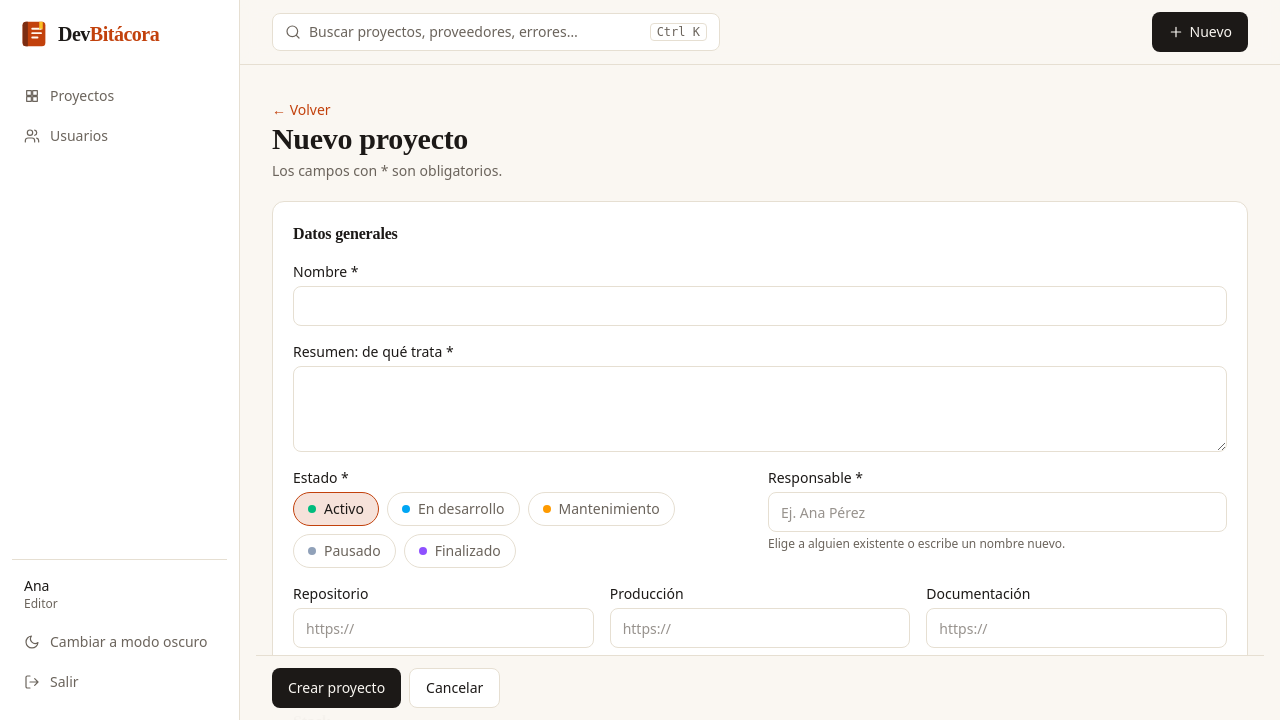
Test case: formulario de proyecto › exige proveedor cuando una fila de servicio tiene datos
Step 1. Type "Nuevo" into the field labelled "Nombre *" → {"x": 760, "y": 306}, box top-left (293, 286), bottom-right (1227, 326)
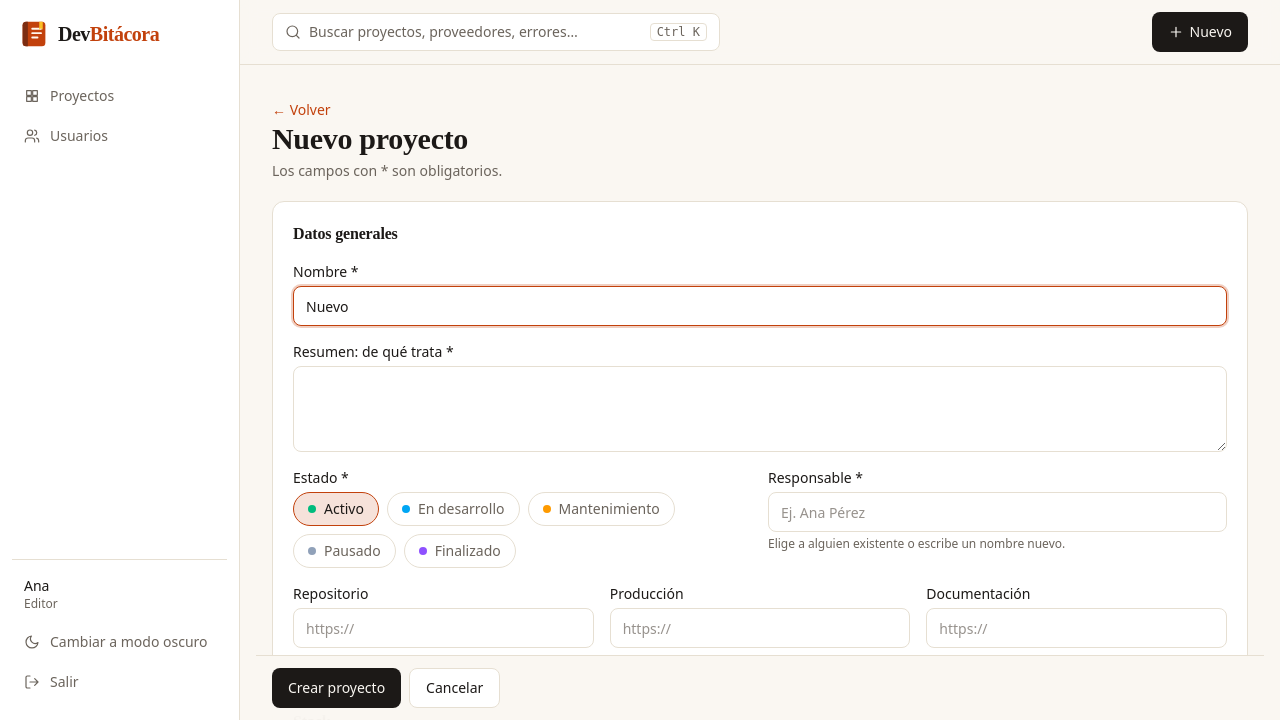
Step 2. Type "Un resumen" into the text box labelled "Resumen: de qué trata *" → {"x": 760, "y": 409}, box top-left (293, 366), bottom-right (1227, 452)
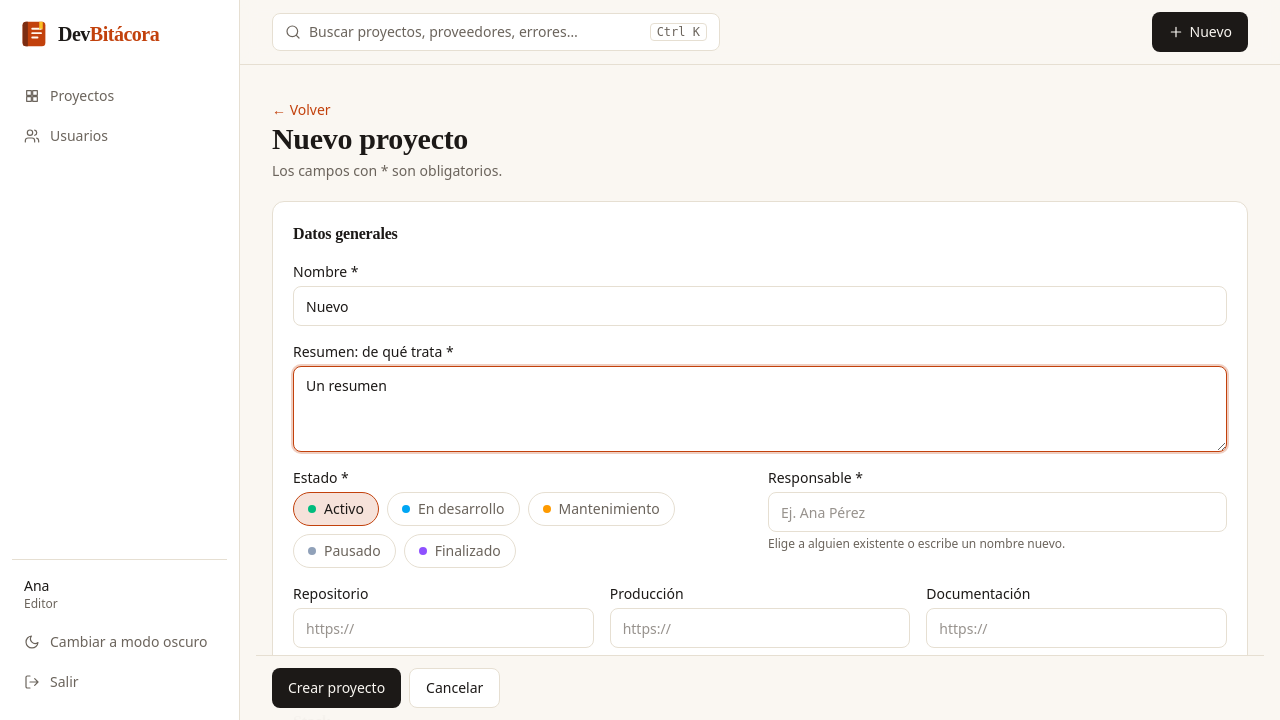
Step 3. Type "Ana" into the dropdown labelled "Responsable *" → {"x": 998, "y": 512}, box top-left (768, 492), bottom-right (1227, 532)
(page scrolled)
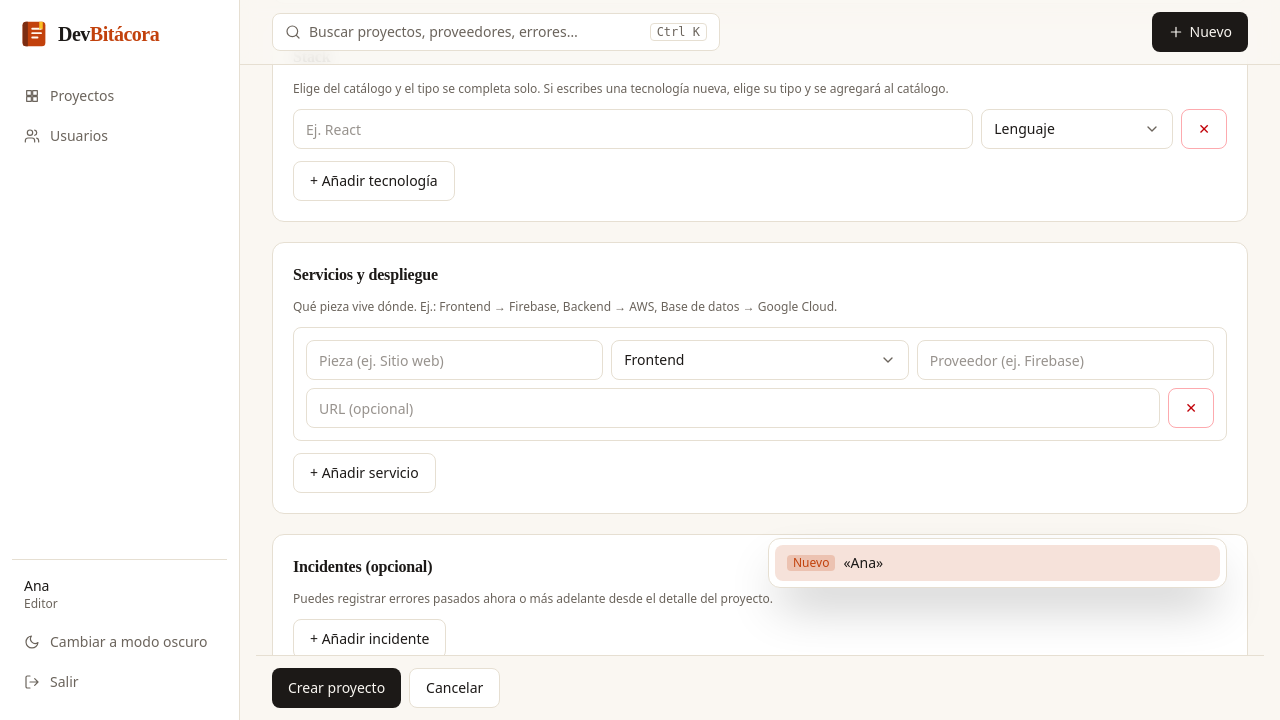
Step 4. Type "Sitio web" into the field labelled "Pieza" → {"x": 455, "y": 360}, box top-left (306, 340), bottom-right (603, 380)
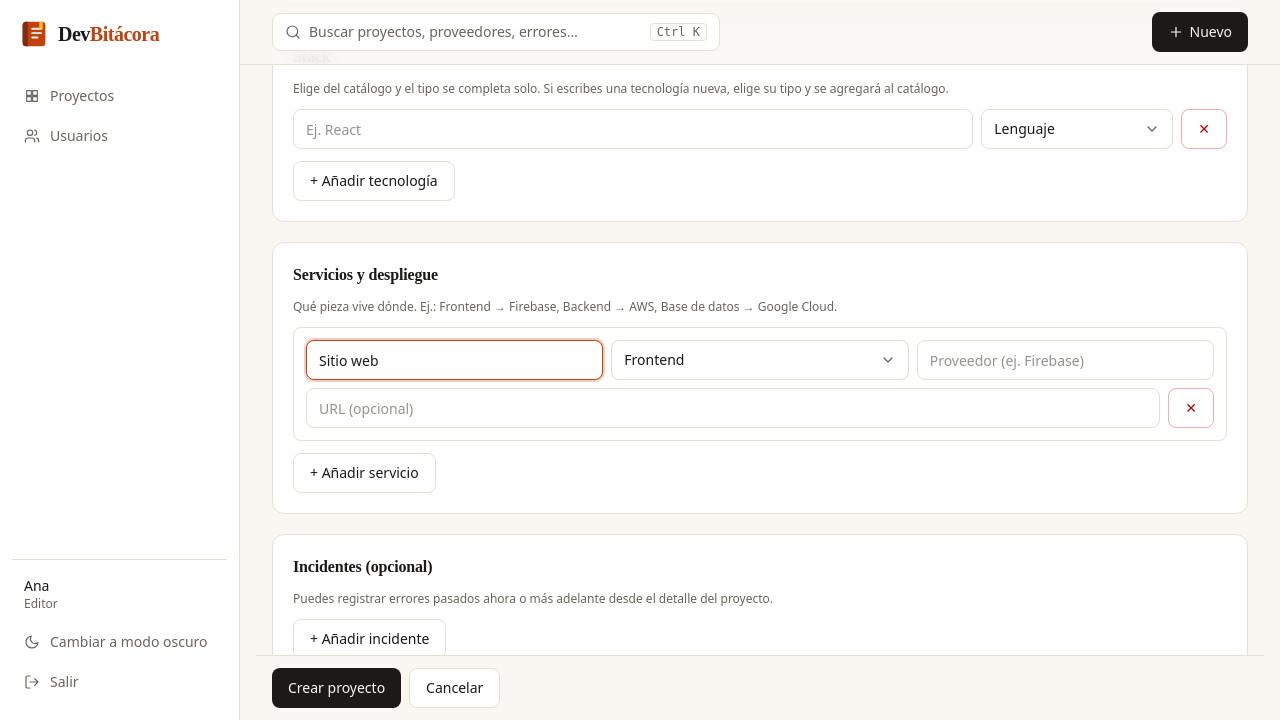
Step 5. Click the button "Crear proyecto" → {"x": 337, "y": 688}, box top-left (272, 668), bottom-right (401, 708)
(page scrolled)
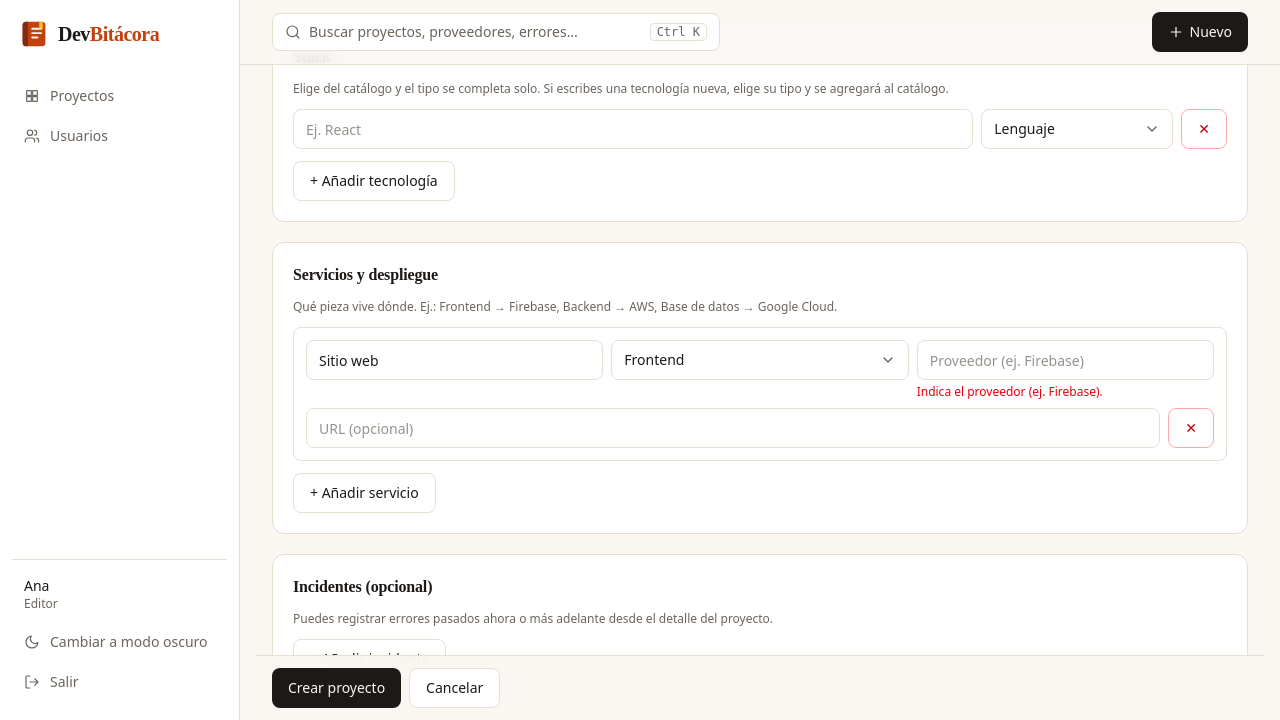
Now the text "Indica el proveedor (ej. Firebase)." is shown, box top-left (917, 383), bottom-right (1103, 400)
